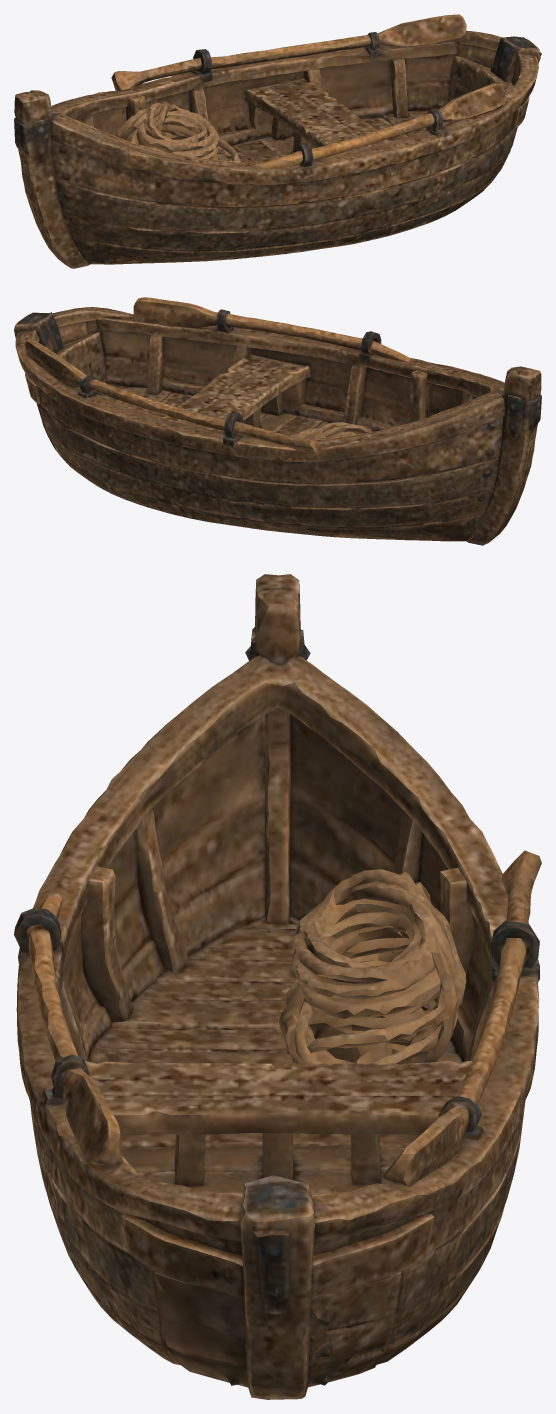
File: rowboat_lite.glb
3 views of the same model, one above another, from view 1: azimuth 30°, elevation 25°; view 2: azimuth 150°, elevation 25°; view 3: azimuth 270°, elevation 25° (orthographic). The views are drawn at different scales.
Visible parts, largest first — view 1: geometry_0; view 2: geometry_0; view 3: geometry_0.
Part boxes in pixels (<box>): geometry_0: <box>14,14,541,268</box>; geometry_0: <box>14,297,541,545</box>; geometry_0: <box>14,574,541,1399</box>.
Bounding box in the file's own units: 1.91 × 0.6318 × 0.8375.
1 material, 1 textured.
